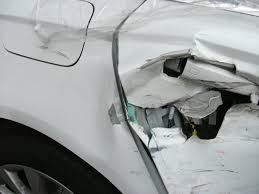Dent: (119, 22, 257, 167)
